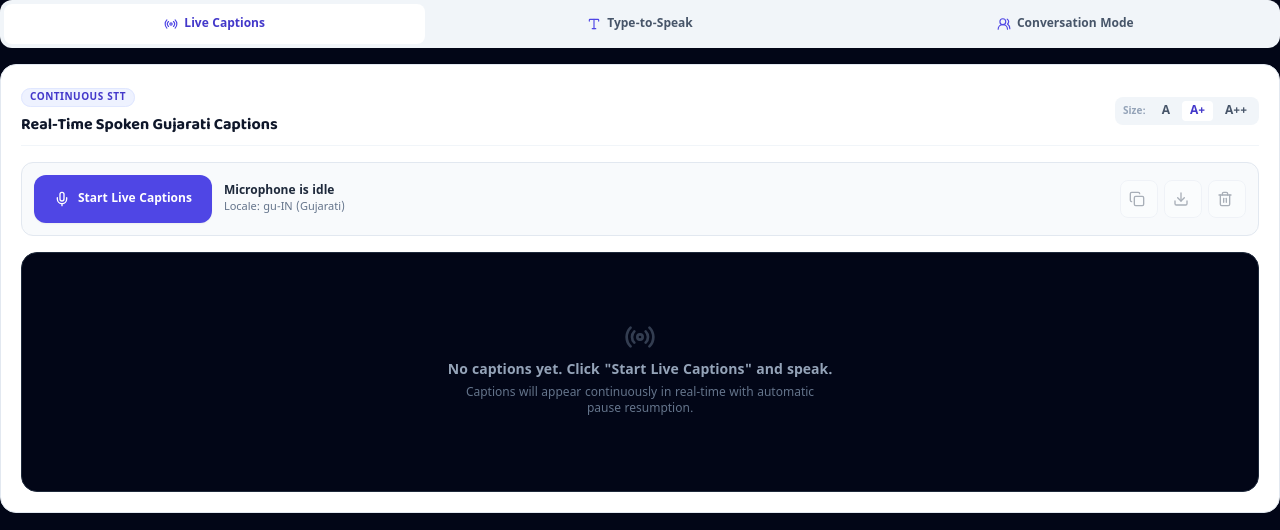
Test: VoiceTools component › handles live captions start and stop cleanly
This screenshot has width=1280, height=530.
Click the button "Start Live Captions": {"x": 123, "y": 199} [34,175,212,223]
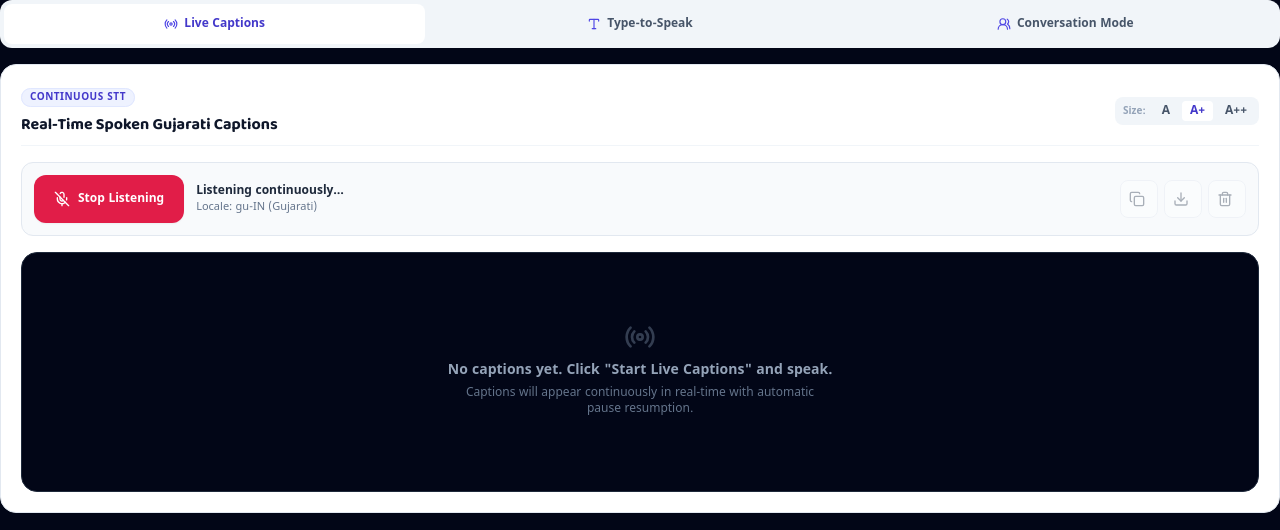
Result: the text "Listening continuously..." is shown at [196,183,344,199]
Stop listening
Click the button "Stop Listening": {"x": 109, "y": 199} [34,175,184,223]
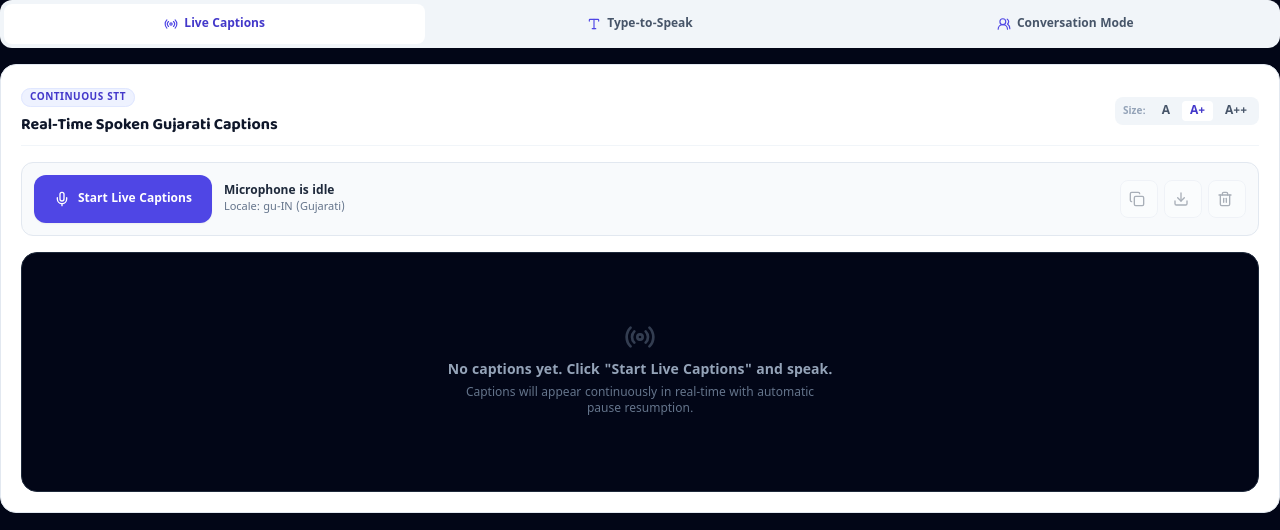
Result: the text "Microphone is idle" is shown at [224,183,345,199]
